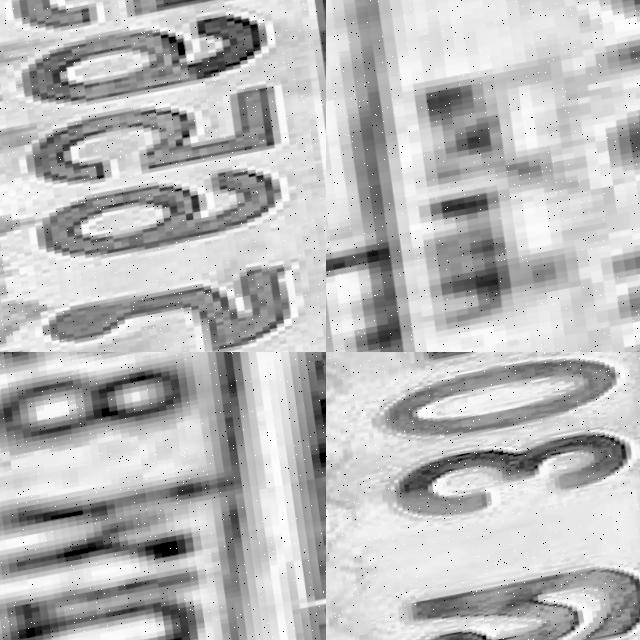license-plate: (0, 0, 326, 352), (326, 0, 640, 352), (0, 352, 326, 640), (326, 352, 640, 640)
